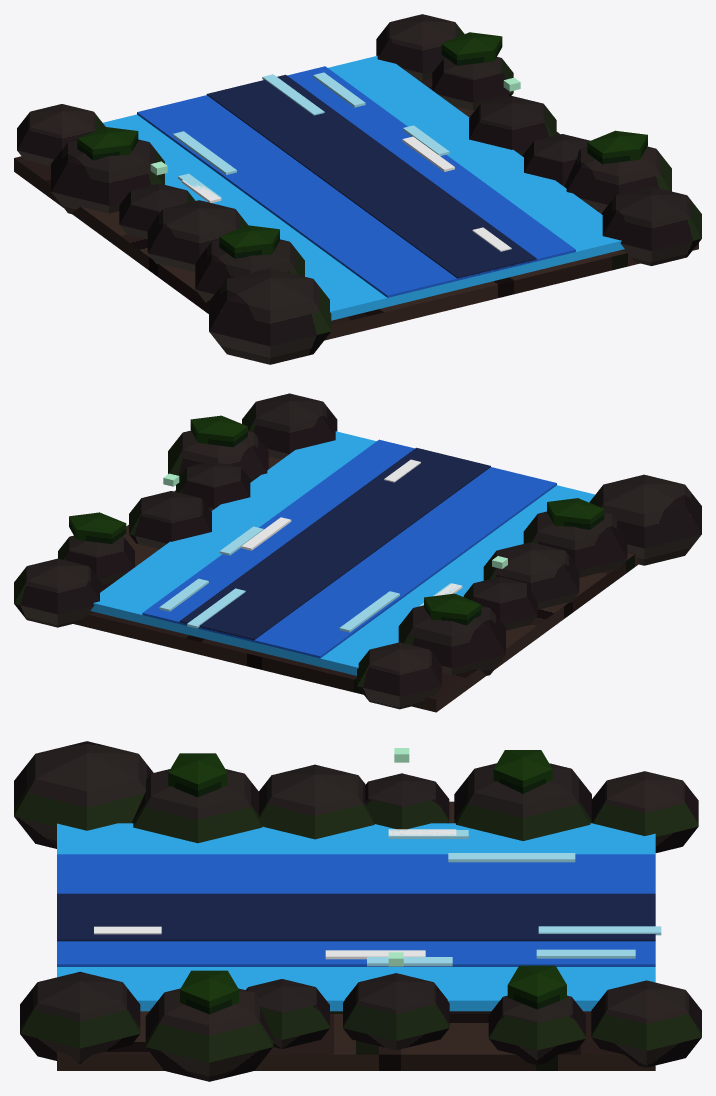
Rendered from stream_straight.glb.
3 views of the same model, one above another, from view 1: azimuth 30°, elevation 25°; view 2: azimuth 150°, elevation 25°; view 3: azimuth 270°, elevation 25° (orthographic). The views are drawn at different scales.
Visible parts, largest first — view 1: stream_straight; view 2: stream_straight; view 3: stream_straight.
Boxes of the visible parts, bbox=[...] form: stream_straight: bbox=[14, 14, 701, 364]; stream_straight: bbox=[14, 393, 701, 712]; stream_straight: bbox=[14, 741, 701, 1081].
Bounding box in the file's own units: 2.37 × 0.3891 × 2.3.
3 materials, 2 textured.
